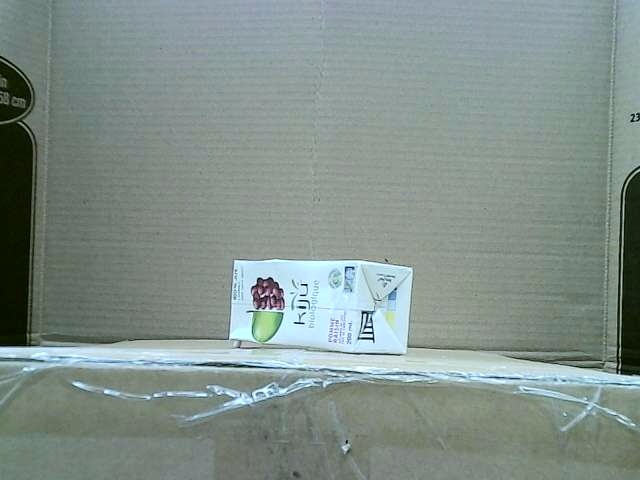JuiceBox: (229, 259, 414, 351)
